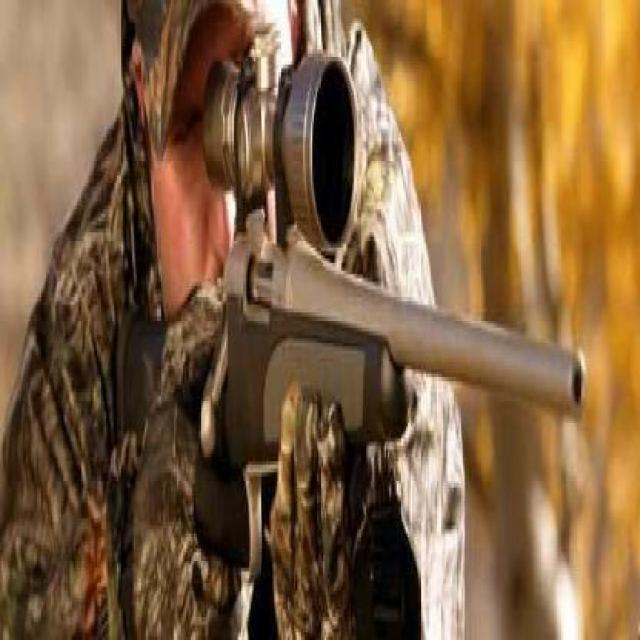weapon: (110, 50, 586, 582)
